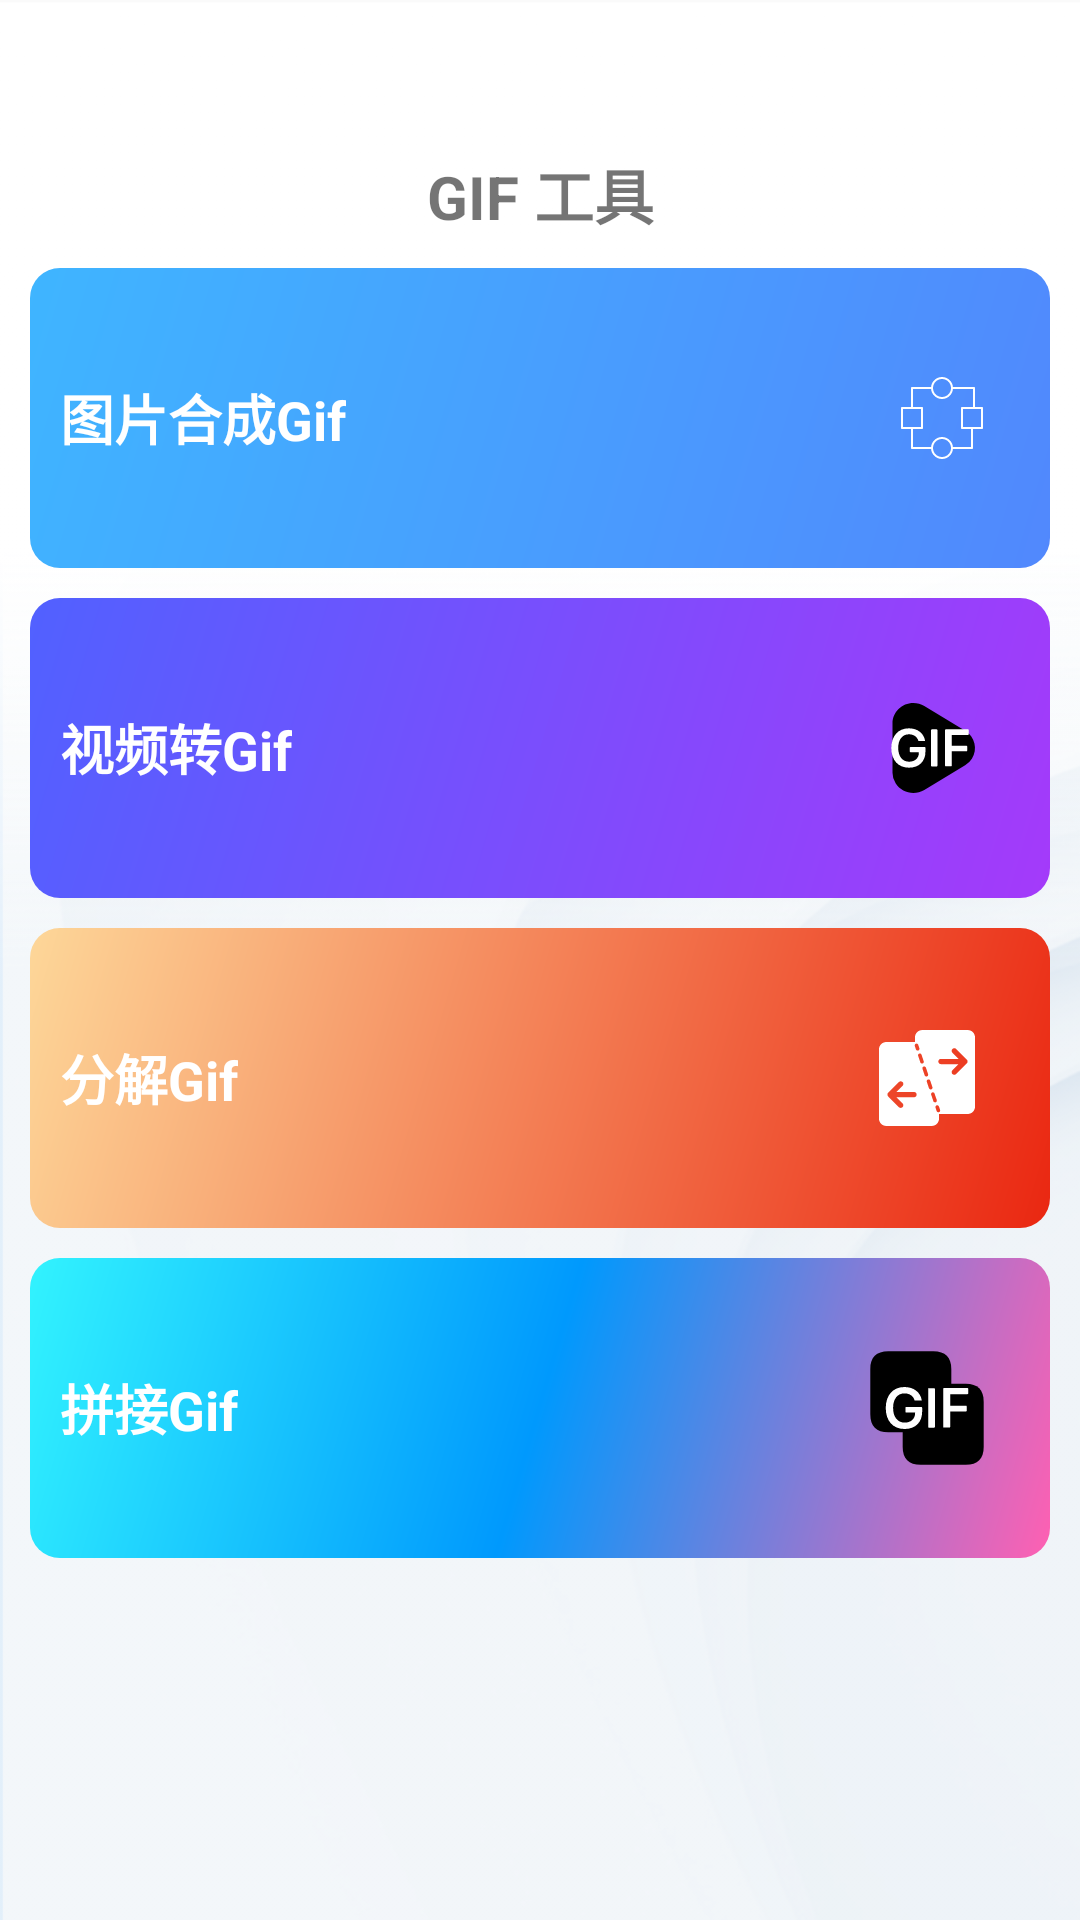

Point at icon controls on the screen. Image size 1080*1920, points as point (x, y).
decomposition: point (927, 1078)
